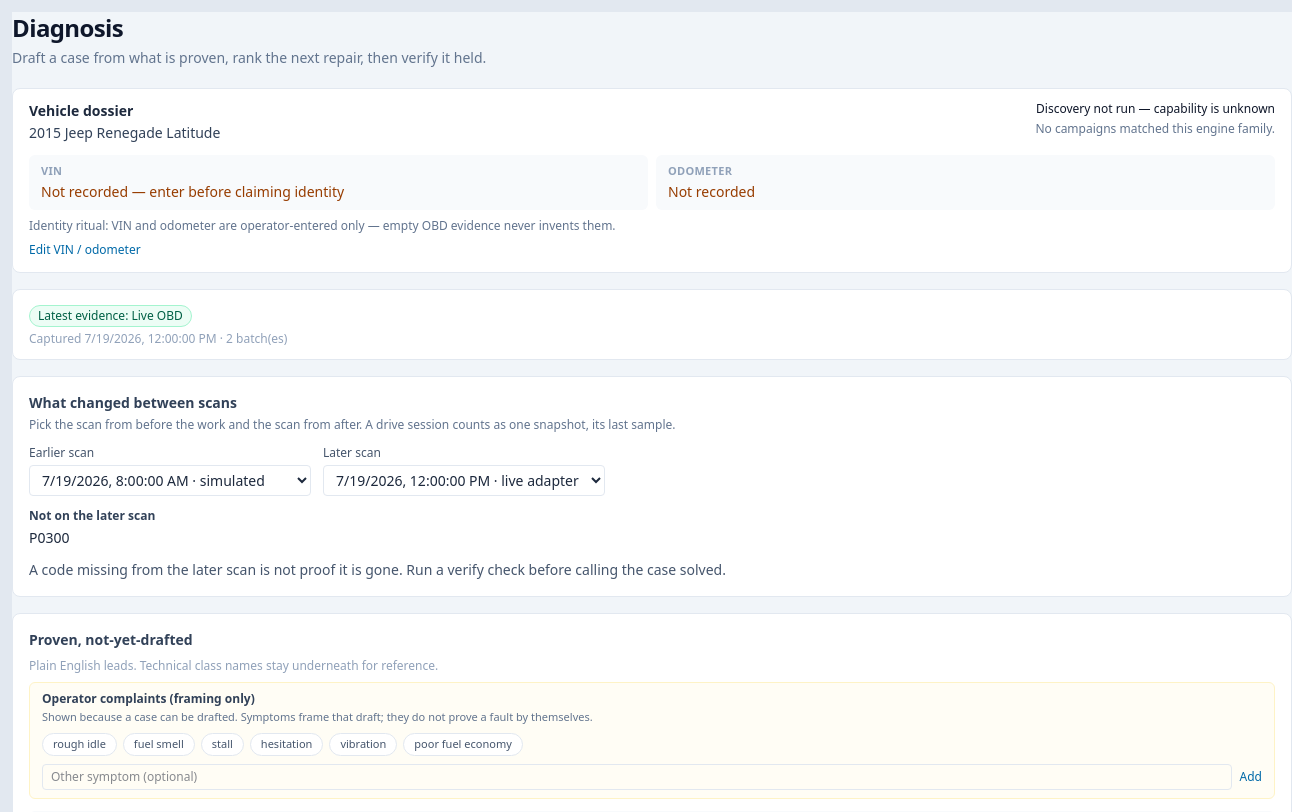
Test: Diagnosis › lets the operator compare a middle scan with the newest instead of the oldest
Expected: the list item "P0300" is shown, x1=29 y1=528 x2=70 y2=546
Expected: the text "P0171" is not shown
Select "7/19/2026, 10:00:00 AM · live adapter" in the dropdown labelled "Earlier scan" at point(170, 480), box x1=29 y1=464 x2=311 y2=496
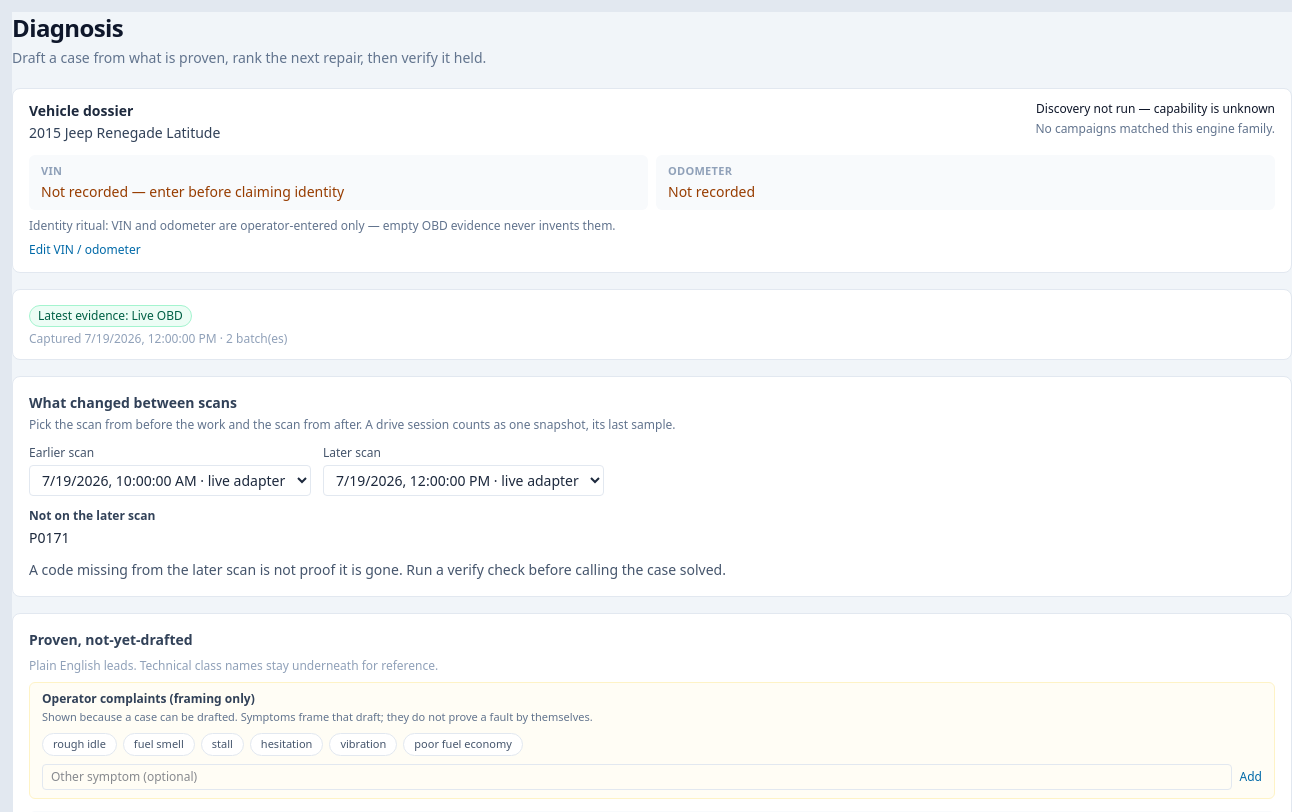
Expected: the text "not proof it is not shown" is shown, x1=29 y1=560 x2=726 y2=578
Result: the list item "P0171" is shown at x1=29 y1=528 x2=70 y2=546
Result: the list item "P0300" is gone
